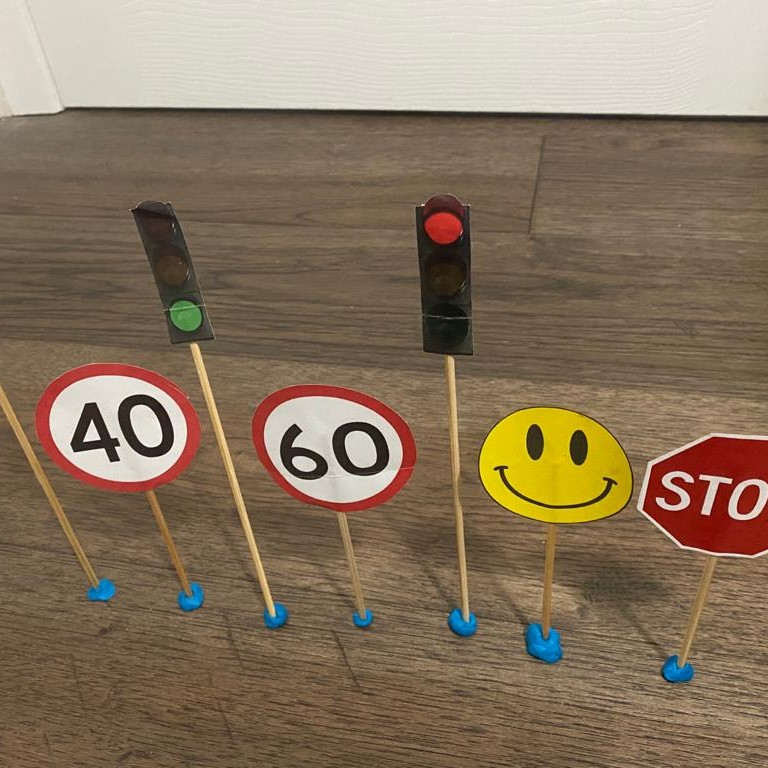Green Traffic Light: (130, 197, 219, 349)
Person: (472, 405, 635, 527)
Red Traffic Light: (413, 191, 478, 359)
Speed Limit 40: (31, 361, 202, 496)
Speed Limit 60: (247, 380, 421, 516)
